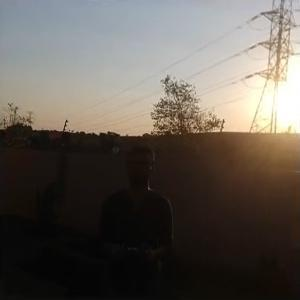follow: (99, 139, 176, 299)
